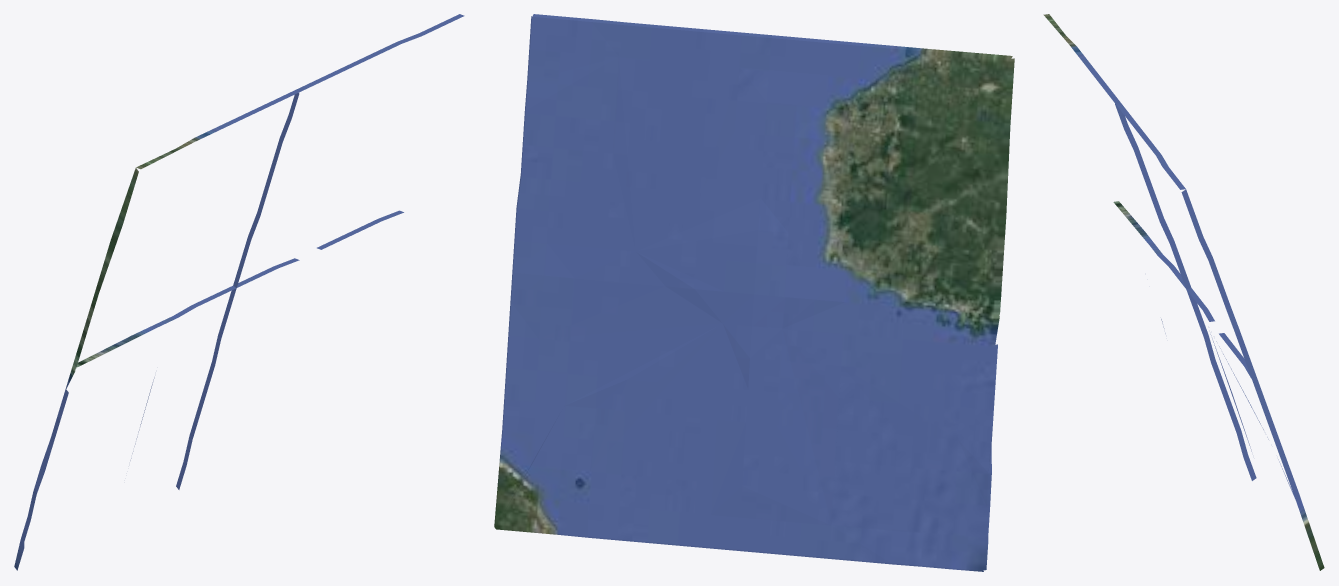
3 renders of one model, left to right at view 1: azimuth 30°, elevation 25°; view 2: azimuth 150°, elevation 25°; view 3: azimuth 270°, elevation 25°, orthographic. The views are drawn at different scales.
Size of the model in its own units: 316412 by 299975 by 190687.
1 material, 1 textured.
